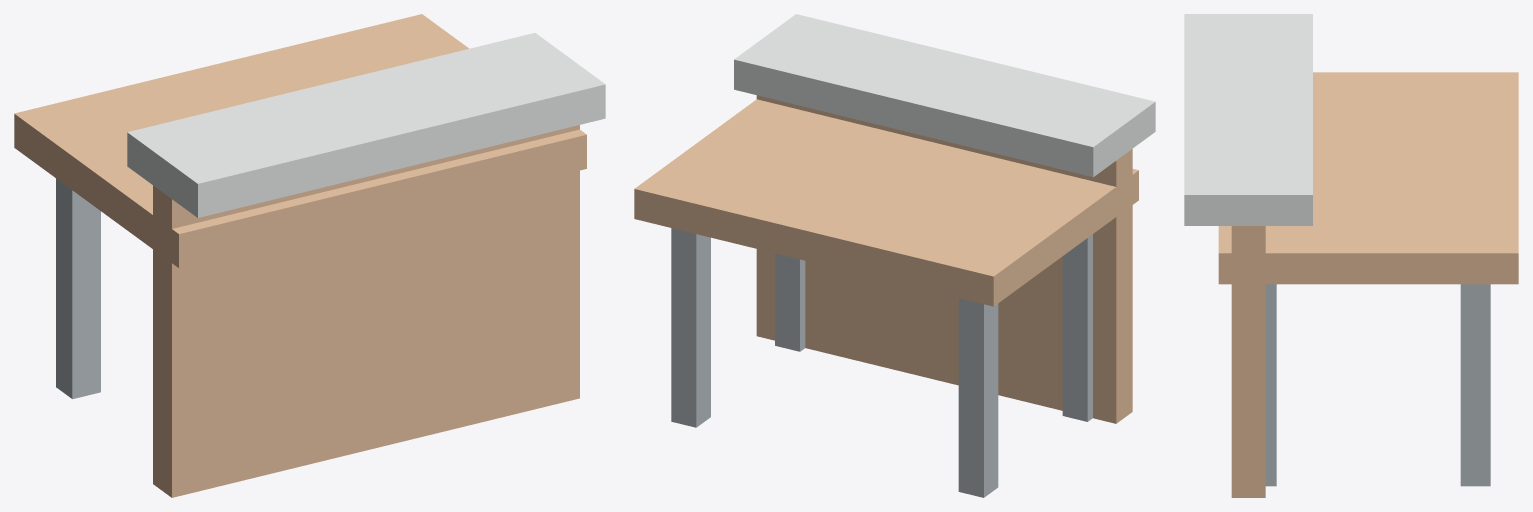
Rendered from reception_desk.glb.
The picture shows the model from 3 angles, left to right: view 1: azimuth 30°, elevation 25°; view 2: azimuth 150°, elevation 25°; view 3: azimuth 270°, elevation 25°; orthographic projection. The views are drawn at different scales.
Bounding box in the file's own units: 1 × 0.78 × 0.78.
